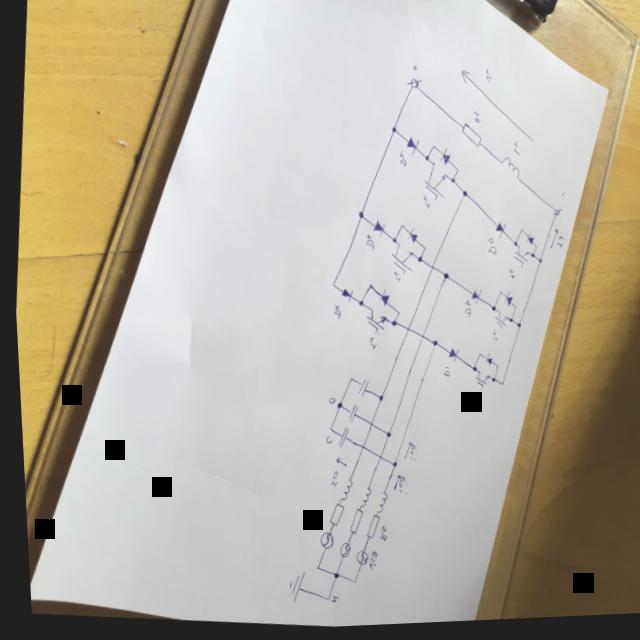capacitor: (331, 428, 346, 453), (350, 380, 365, 400), (342, 405, 355, 426)
crossover: (373, 457, 377, 461), (355, 447, 359, 451), (402, 329, 406, 333), (427, 269, 431, 273), (365, 425, 369, 428), (418, 337, 421, 341)
diode: (403, 139, 420, 160), (374, 290, 391, 310), (490, 223, 505, 244), (436, 150, 451, 170), (369, 220, 384, 240), (466, 290, 480, 310), (336, 288, 351, 305), (444, 349, 457, 367), (404, 229, 416, 247), (499, 294, 511, 311), (480, 354, 490, 371), (522, 236, 533, 251)
ground: (280, 571, 300, 605)
inductor: (496, 158, 519, 182), (334, 481, 348, 504), (370, 493, 383, 517), (353, 487, 366, 511)
junction: (387, 321, 395, 331), (354, 300, 362, 310), (533, 261, 541, 269), (389, 128, 396, 136), (363, 285, 370, 293), (355, 214, 362, 221), (413, 259, 420, 266), (447, 180, 454, 187), (373, 397, 379, 404), (487, 308, 493, 314), (512, 326, 517, 333), (309, 565, 314, 572), (460, 194, 465, 200), (380, 434, 385, 440), (344, 379, 349, 385), (327, 575, 332, 580), (495, 385, 500, 390), (332, 404, 337, 409), (440, 277, 446, 281), (487, 380, 491, 386), (388, 464, 392, 469), (346, 582, 351, 586), (430, 148, 434, 153), (324, 428, 328, 433), (429, 343, 433, 348), (468, 371, 472, 376), (505, 321, 509, 326), (453, 171, 457, 176), (510, 245, 514, 250), (389, 240, 393, 244), (318, 599, 322, 603), (473, 356, 477, 360), (495, 295, 499, 299), (419, 248, 423, 252), (397, 226, 401, 230), (423, 159, 427, 163), (393, 314, 397, 318), (510, 309, 513, 313), (528, 257, 531, 261), (532, 248, 535, 252), (329, 287, 332, 289), (493, 369, 495, 372), (517, 233, 520, 235)
resistor: (457, 125, 483, 152), (341, 508, 359, 538), (321, 503, 340, 531), (358, 515, 376, 543)
source: (312, 533, 329, 552), (348, 552, 363, 568), (333, 543, 346, 561)
terminal: (405, 80, 422, 92), (547, 210, 560, 223)
text: (390, 477, 405, 498), (360, 551, 373, 572), (483, 240, 496, 259), (323, 471, 336, 490), (402, 443, 413, 465), (395, 151, 407, 170), (328, 305, 340, 321), (371, 527, 382, 544), (362, 236, 373, 253), (551, 237, 562, 254), (459, 303, 469, 321), (419, 196, 429, 213), (363, 338, 374, 353), (510, 144, 520, 160), (470, 113, 480, 128), (486, 332, 496, 347), (483, 71, 492, 87), (390, 272, 399, 286), (503, 272, 513, 283), (465, 400, 473, 413), (323, 596, 333, 606), (439, 368, 446, 381), (323, 397, 332, 407), (409, 67, 419, 76), (557, 195, 565, 203), (320, 437, 327, 444)
transistor: (420, 163, 447, 205), (385, 244, 413, 279), (361, 310, 386, 338), (508, 249, 527, 275), (468, 374, 488, 395), (489, 312, 506, 335)
